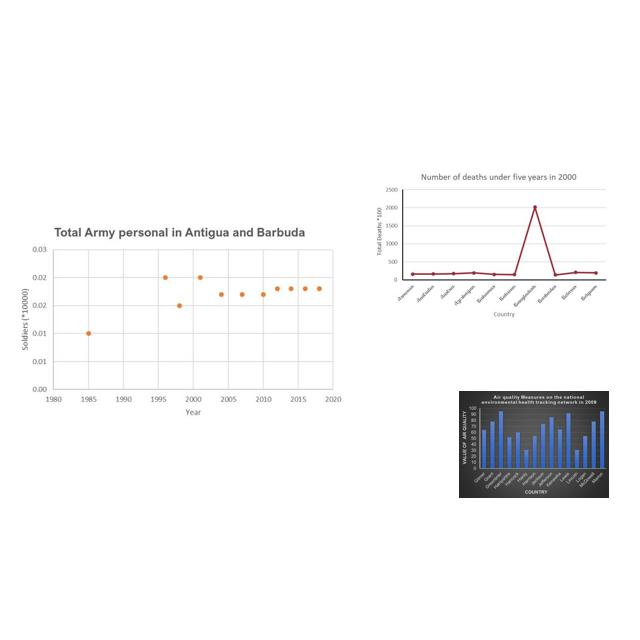Graph: (12, 222, 345, 425), (369, 167, 612, 325), (459, 391, 609, 498)
